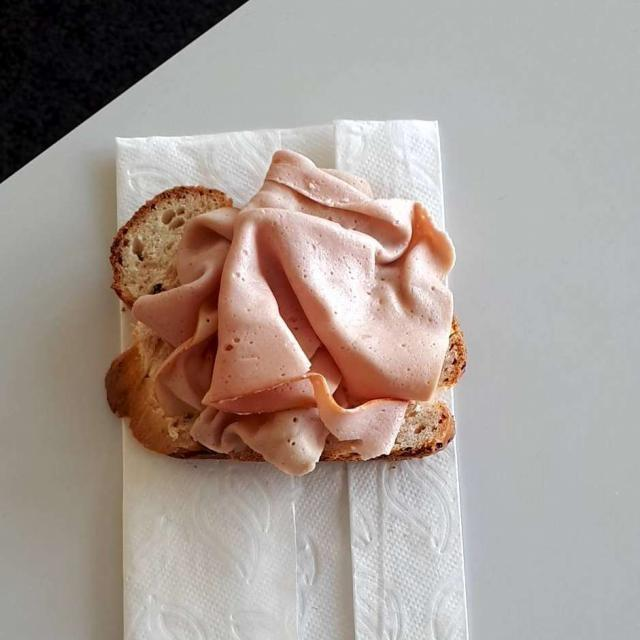bread: (113, 189, 454, 464)
